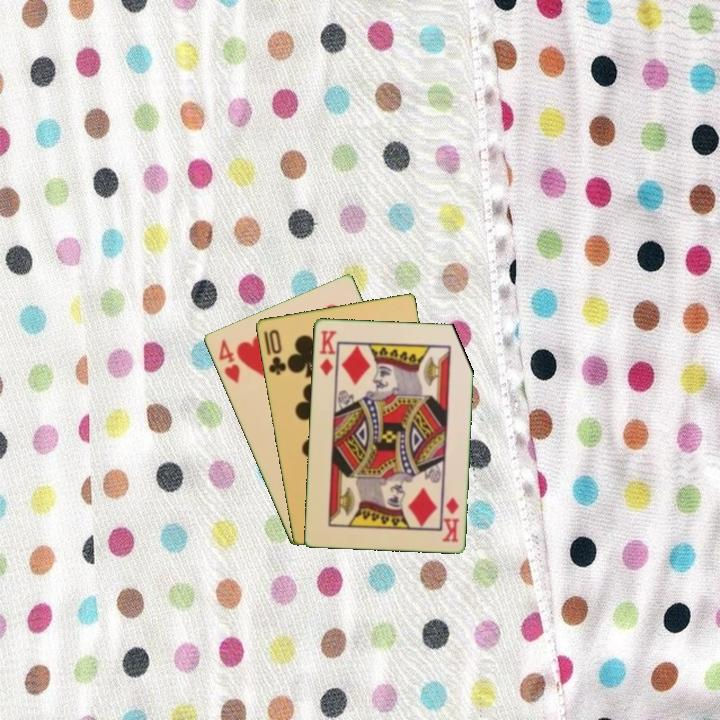10c: (265, 325, 289, 378)
4h: (215, 336, 243, 386)
Kd: (316, 327, 339, 379), (439, 493, 462, 545)
